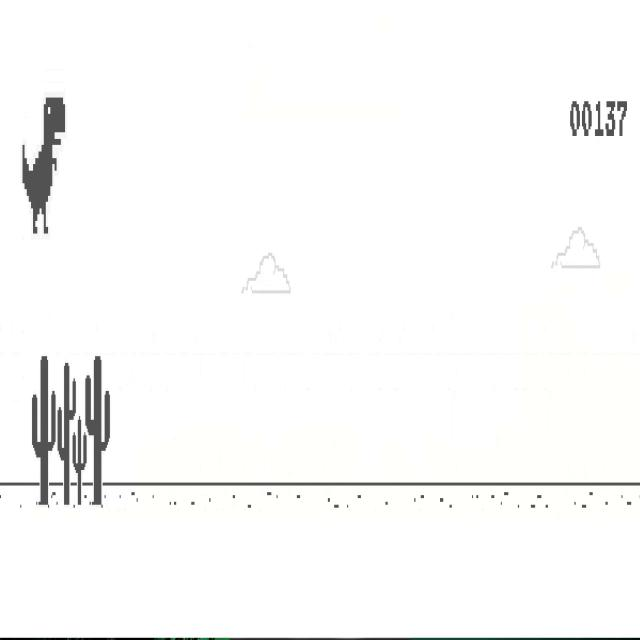cacto: (30, 353, 57, 509), (84, 353, 111, 507), (56, 360, 77, 508), (72, 415, 88, 507)
dino: (21, 93, 66, 236)
